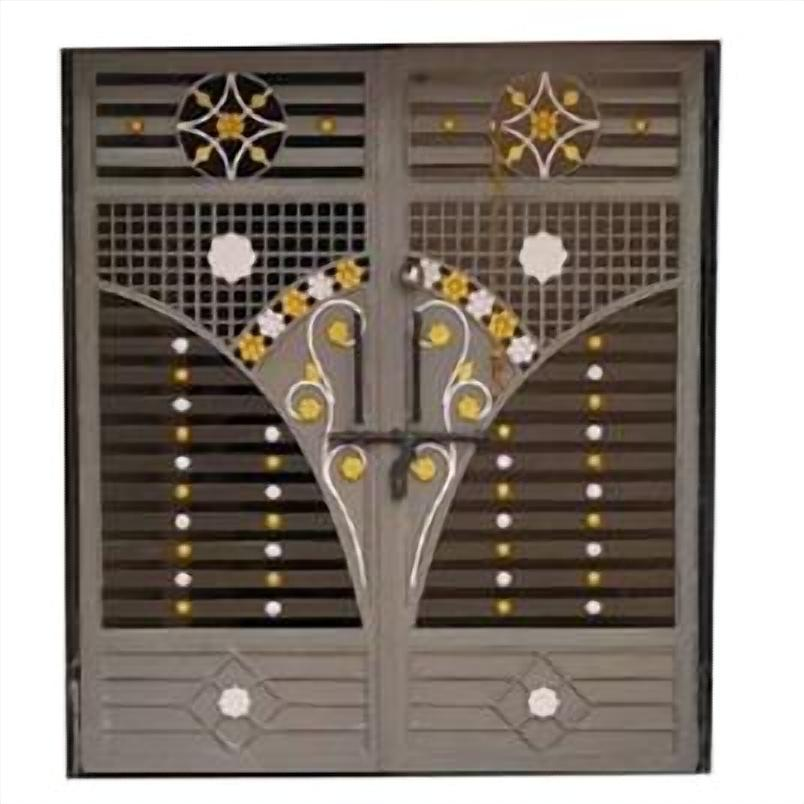Gate: (58, 42, 719, 778)
